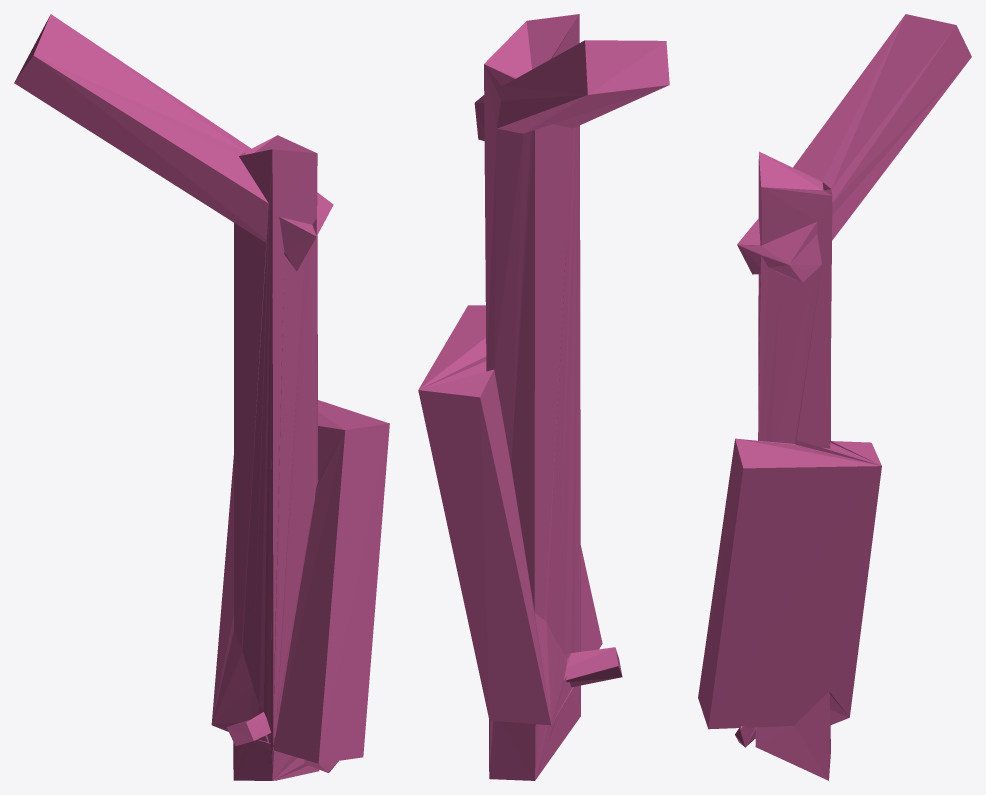
3 views of the same model, side by side, from view 1: azimuth 30°, elevation 25°; view 2: azimuth 150°, elevation 25°; view 3: azimuth 270°, elevation 25° (orthographic). The views are drawn at different scales.
Parts seen in each view (by area): view 1: 741_Cube.2975; view 2: 741_Cube.2975; view 3: 741_Cube.2975.
Part boxes in pixels (bbox=[...]): 741_Cube.2975: bbox=[14, 14, 389, 780]; 741_Cube.2975: bbox=[418, 14, 669, 780]; 741_Cube.2975: bbox=[698, 14, 971, 780].
Bounding box in the file's own units: 5.71 × 14.75 × 5.34.
